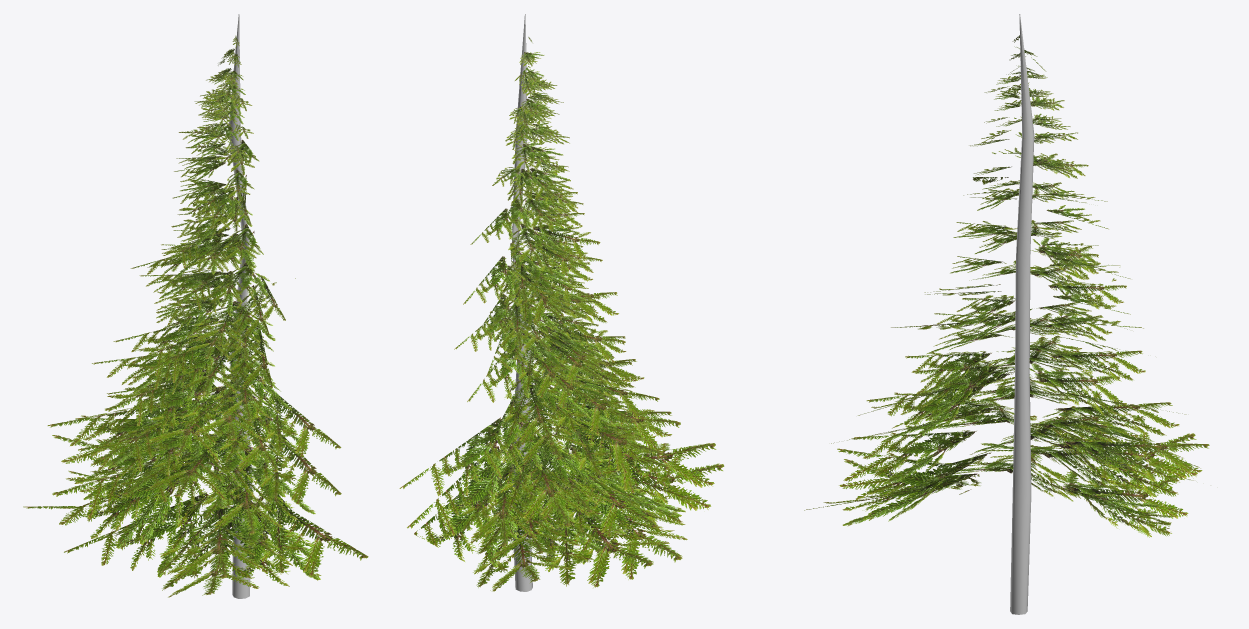
The model's file is HalfFirTree.fbx.
The picture shows the model from 3 angles, left to right: view 1: azimuth 30°, elevation 25°; view 2: azimuth 150°, elevation 25°; view 3: azimuth 270°, elevation 25°; orthographic projection. The views are drawn at different scales.
Visible parts, largest first — view 1: FirTreeBranches.001, Trunk.001; view 2: FirTreeBranches.001, Trunk.001; view 3: FirTreeBranches.001, Trunk.001.
Part boxes in pixels (<box>): FirTreeBranches.001: <box>23,35,368,597</box>; Trunk.001: <box>229,14,252,598</box>; FirTreeBranches.001: <box>399,37,724,591</box>; Trunk.001: <box>511,14,532,591</box>; FirTreeBranches.001: <box>804,35,1209,537</box>; Trunk.001: <box>1010,14,1034,614</box>.
Size of the model in its own units: 358 by 800 by 553.
